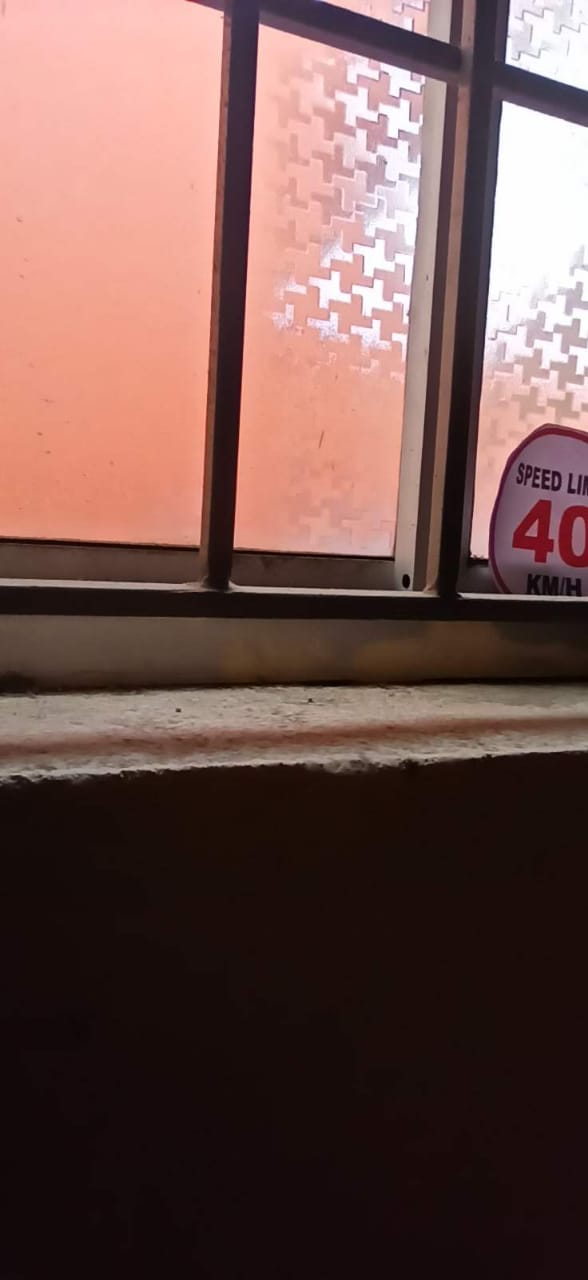SPEED LIMIT (40 KM/H): (493, 421, 588, 606)
